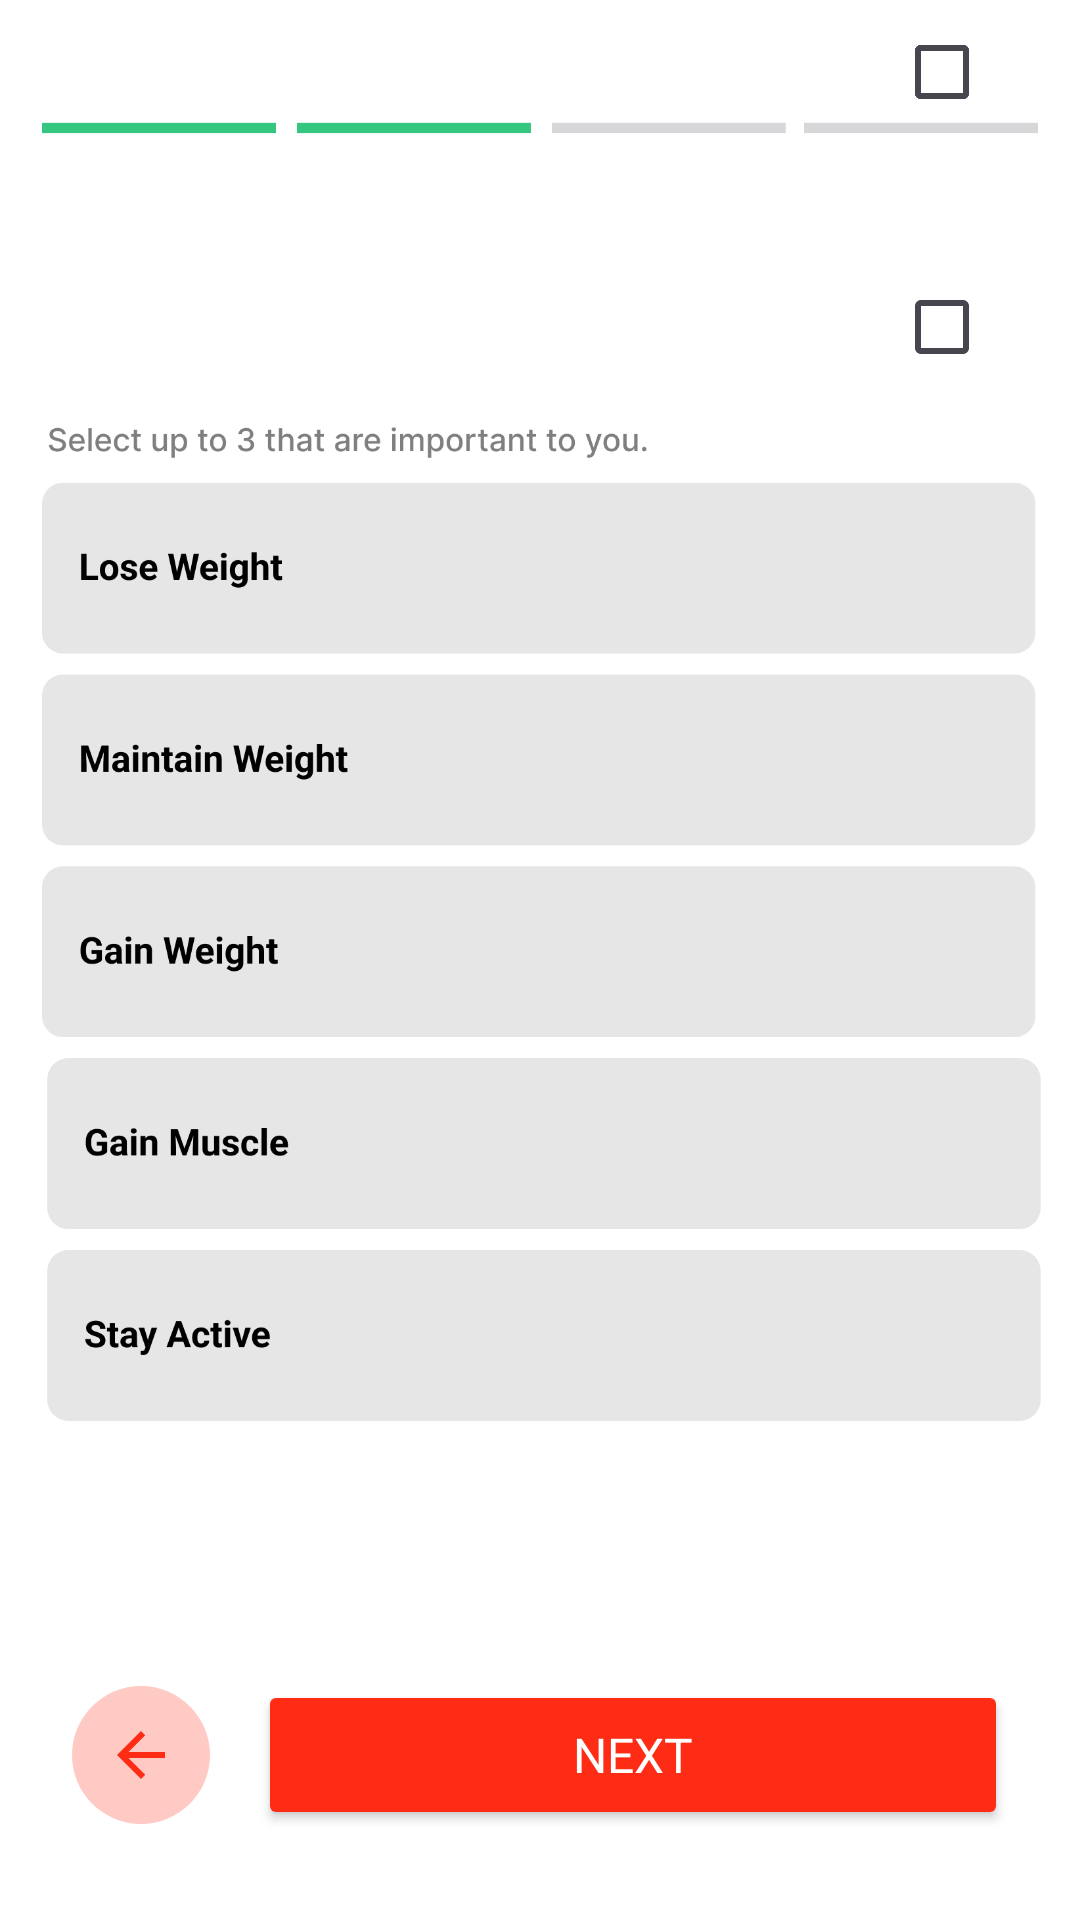

Screen size 1080x1920. Icon name, then its center in pixels as [x,y]:
back: [141,1755]
